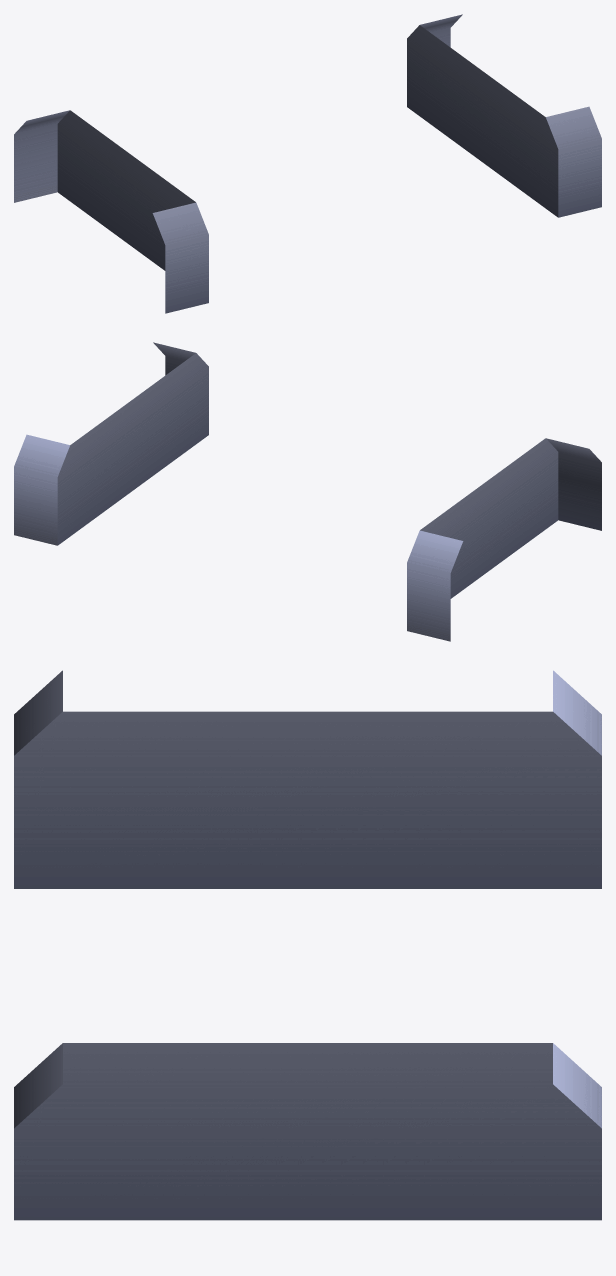
The model's file is wall-door-rotate_lev2.glb.
3 views of the same model, one above another, from view 1: azimuth 30°, elevation 25°; view 2: azimuth 150°, elevation 25°; view 3: azimuth 270°, elevation 25° (orthographic). The views are drawn at different scales.
Parts seen in each view (by area): view 1: wall-door-rotate_lev2; view 2: wall-door-rotate_lev2; view 3: wall-door-rotate_lev2.
Part boxes in pixels (x1=…): wall-door-rotate_lev2: x1=14, y1=14, x2=601, y2=313; wall-door-rotate_lev2: x1=14, y1=342, x2=601, y2=641; wall-door-rotate_lev2: x1=14, y1=670, x2=601, y2=1220.
Bounding box in the file's own units: 1 × 0.2 × 0.6.
1 material, 1 textured.
